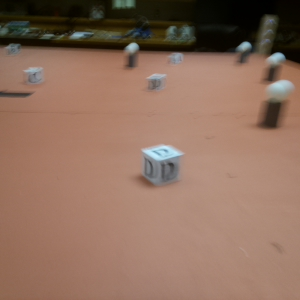blockA: (171, 54, 182, 63)
blockC: (25, 68, 42, 86)
blockD: (142, 145, 181, 188), (148, 73, 164, 92)
corner: (258, 14, 276, 55)
obstacle: (255, 80, 292, 131), (265, 51, 284, 80), (237, 41, 251, 69), (126, 43, 138, 67)
